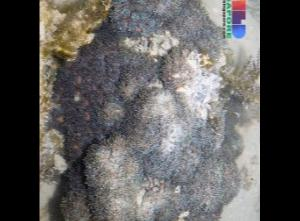bleached_corals: (53, 0, 258, 221)
